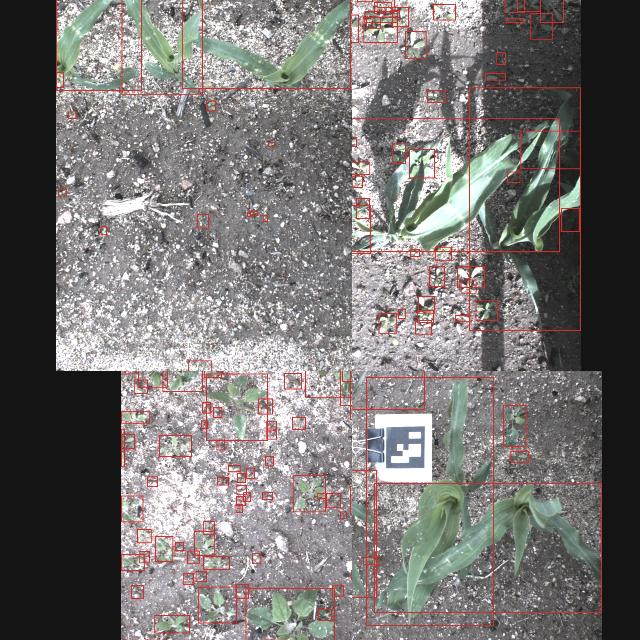crop: (366, 377, 492, 625), (373, 482, 601, 612), (352, 117, 559, 250), (470, 86, 580, 330), (182, 0, 350, 88), (55, 0, 141, 90), (120, 0, 201, 93), (352, 469, 375, 596), (304, 371, 352, 396), (162, 371, 202, 391)
weed: (244, 587, 333, 640), (206, 372, 266, 440), (352, 371, 423, 408), (520, 130, 580, 168), (198, 586, 236, 622), (292, 475, 326, 511), (502, 404, 526, 446), (362, 16, 396, 42), (408, 148, 434, 178), (157, 434, 190, 456), (154, 614, 188, 632), (120, 495, 142, 521), (405, 31, 425, 58), (530, 14, 552, 38), (458, 266, 484, 286), (193, 530, 213, 556), (540, 0, 563, 21), (475, 300, 497, 320), (137, 371, 166, 386), (154, 536, 172, 560), (561, 208, 579, 230), (432, 4, 456, 20), (364, 10, 396, 22), (120, 554, 144, 570), (378, 313, 396, 333), (428, 266, 444, 286), (203, 556, 229, 568), (392, 7, 408, 26), (120, 412, 150, 422), (187, 359, 211, 371), (391, 143, 405, 163), (418, 296, 434, 312), (284, 372, 300, 388), (517, 0, 540, 11), (356, 197, 368, 217), (415, 319, 431, 333), (435, 246, 451, 260), (326, 492, 340, 508), (258, 398, 272, 414), (352, 160, 369, 173), (504, 0, 524, 11), (427, 90, 445, 102), (510, 451, 528, 462), (136, 528, 150, 542), (120, 434, 134, 448), (460, 280, 476, 292), (417, 310, 433, 322), (374, 1, 391, 12), (196, 213, 208, 227), (366, 16, 380, 28), (236, 583, 248, 597), (317, 608, 331, 620), (202, 520, 214, 534), (186, 550, 198, 564), (130, 584, 142, 598), (134, 379, 146, 393), (485, 72, 505, 80), (120, 428, 124, 466), (292, 416, 304, 428), (506, 172, 520, 182), (352, 14, 357, 41), (362, 556, 378, 564), (376, 0, 394, 7), (496, 52, 506, 64), (332, 584, 342, 596), (183, 572, 193, 584), (194, 571, 206, 581), (139, 550, 149, 562), (456, 314, 470, 322), (352, 175, 361, 187), (266, 428, 276, 438), (236, 484, 246, 494), (212, 406, 222, 416), (146, 476, 156, 486), (227, 464, 239, 472), (216, 476, 228, 484), (266, 422, 276, 431), (203, 371, 220, 376), (56, 72, 62, 86), (206, 100, 214, 110), (252, 553, 260, 563), (265, 455, 273, 465), (235, 496, 245, 504), (237, 472, 245, 482), (246, 468, 254, 478), (216, 439, 224, 449), (201, 402, 209, 412), (409, 248, 418, 256), (242, 492, 250, 501), (57, 188, 65, 196), (506, 18, 522, 22), (174, 542, 182, 550), (398, 308, 404, 318), (316, 492, 326, 498), (262, 492, 272, 498), (100, 226, 106, 234), (67, 111, 75, 117), (392, 9, 398, 17), (235, 504, 241, 512), (201, 420, 207, 428), (262, 215, 268, 221), (247, 210, 253, 216), (250, 210, 256, 216), (340, 512, 346, 518), (268, 142, 274, 146), (124, 371, 135, 373), (350, 569, 352, 578)
